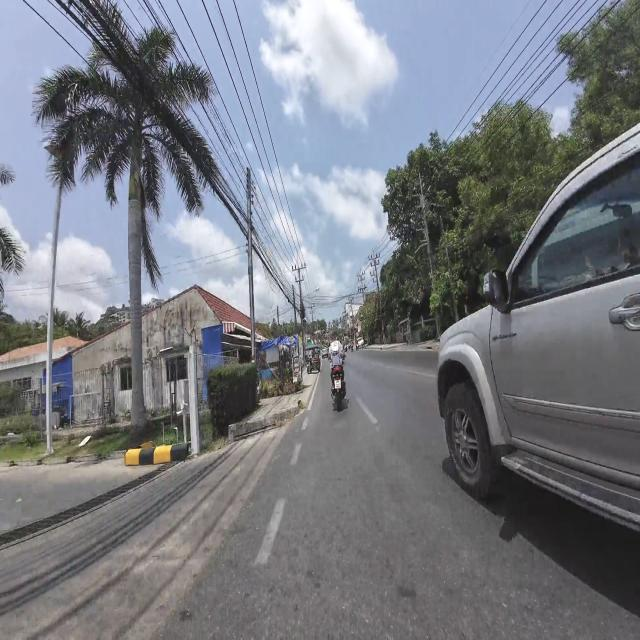car: (438, 126, 639, 528), (322, 347, 328, 358)
motorcycle: (331, 365, 345, 410)
